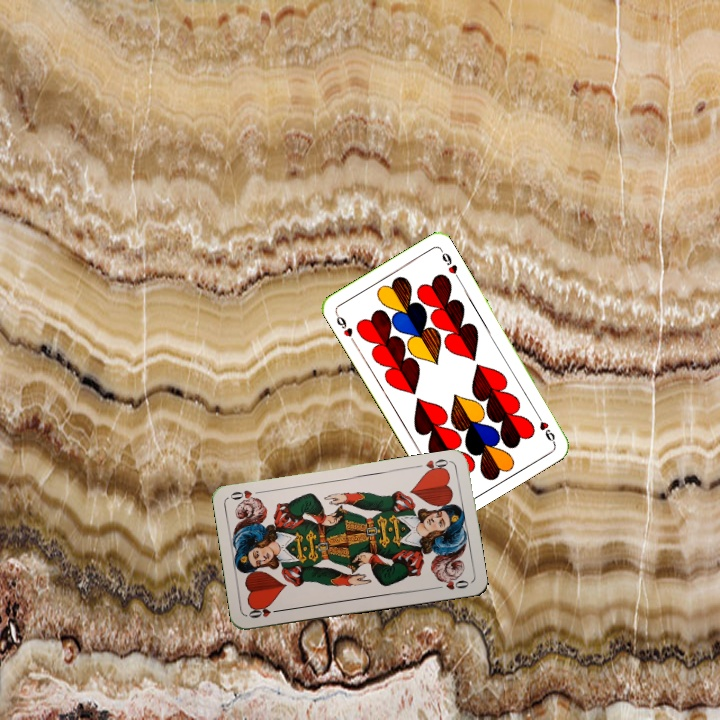H9: (531, 408, 558, 445), (331, 309, 357, 346)
HO: (244, 603, 285, 621), (420, 455, 453, 476)
